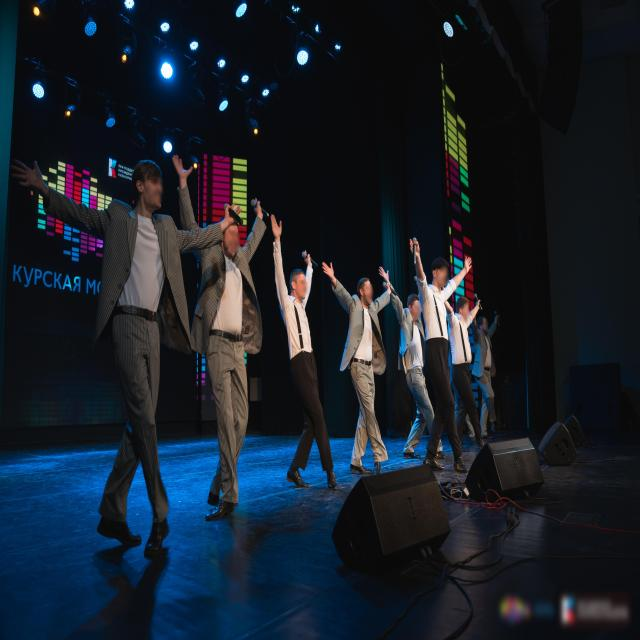Person: (55, 131, 185, 565), (190, 190, 271, 546), (335, 250, 391, 477), (281, 234, 323, 507), (418, 244, 461, 478), (398, 277, 435, 467), (450, 286, 483, 453), (473, 305, 503, 435)
